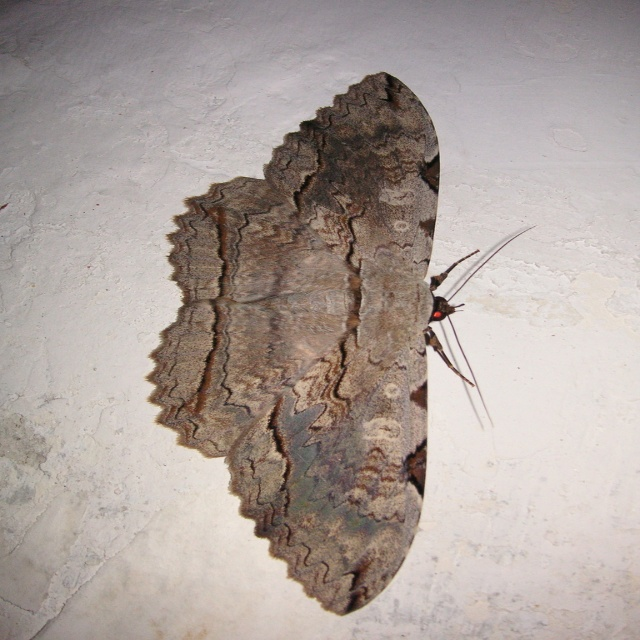Moths and butterflies: (148, 74, 537, 615)
